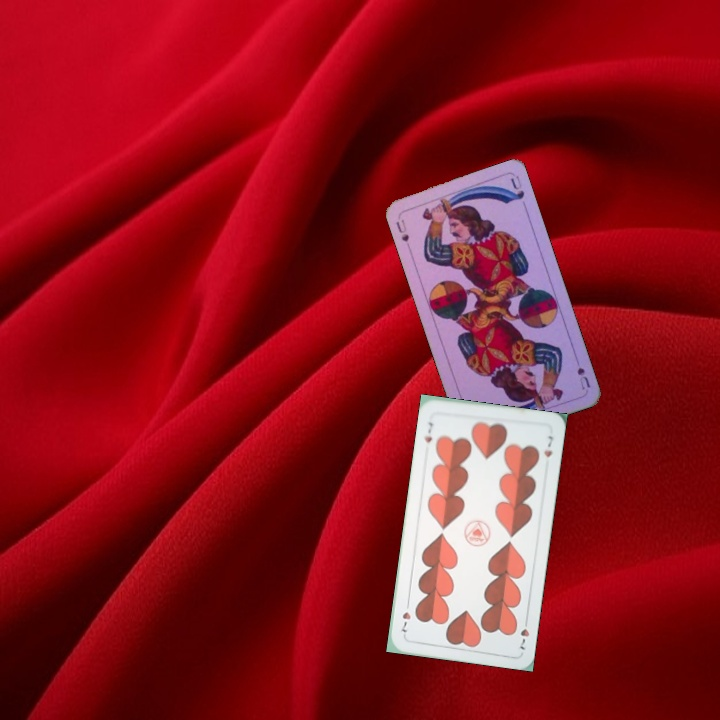H7: (516, 613, 532, 652), (420, 418, 435, 445)
SU: (571, 352, 593, 392), (392, 215, 412, 245)
